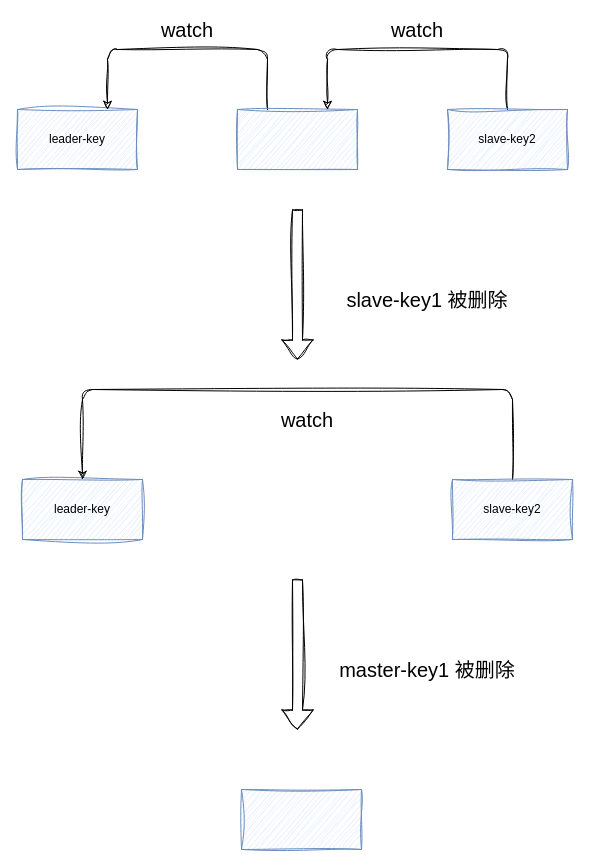
Image size: 590x867. Some labels were removed from this diagram. Each missing label, with the box of its shape:
slave-key1: (236, 108, 358, 170)
slave-key2(master): (240, 788, 362, 850)
